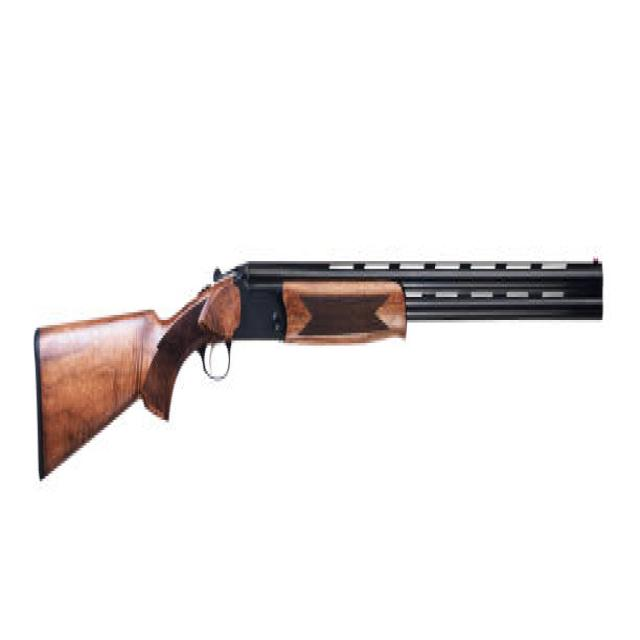rifle: (24, 226, 609, 499)
